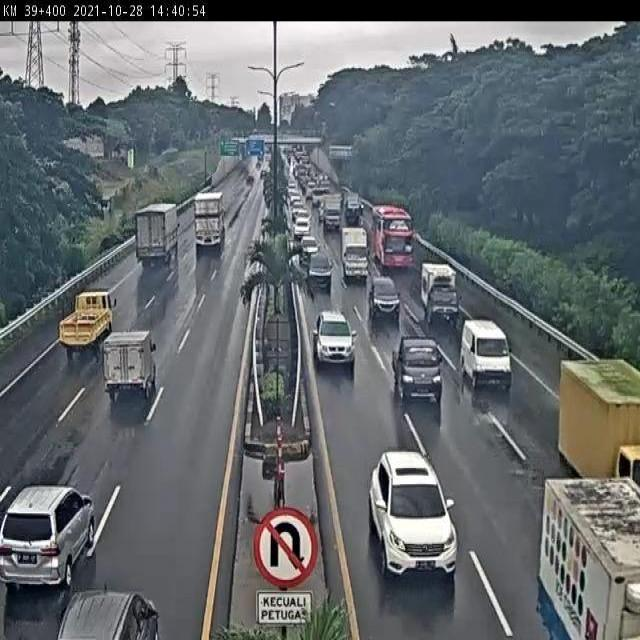big bus: (368, 202, 409, 266)
car: (370, 451, 461, 577), (0, 480, 97, 588), (461, 320, 513, 392), (393, 336, 442, 400), (313, 307, 357, 368), (368, 274, 402, 318), (305, 251, 335, 293)
mid truck: (342, 226, 372, 282)
small truck: (98, 330, 157, 406), (421, 259, 460, 325)
truck-m-: (57, 289, 116, 356), (134, 203, 179, 264)
